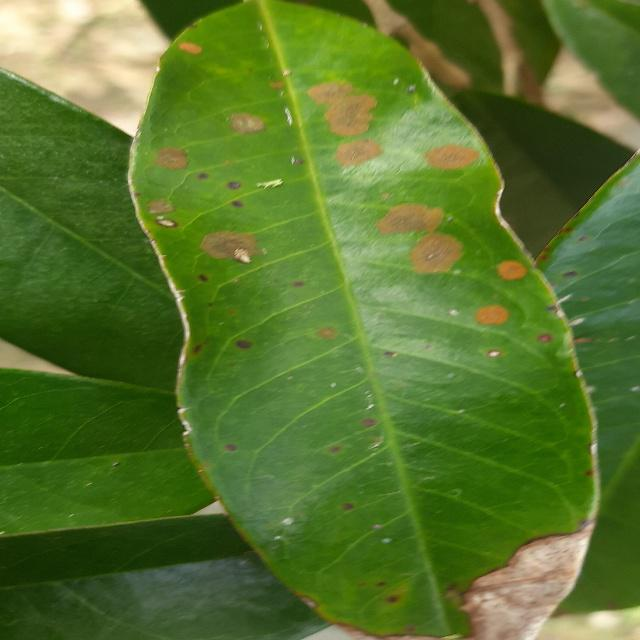Algal Leaf Spot: (125, 0, 611, 639)
